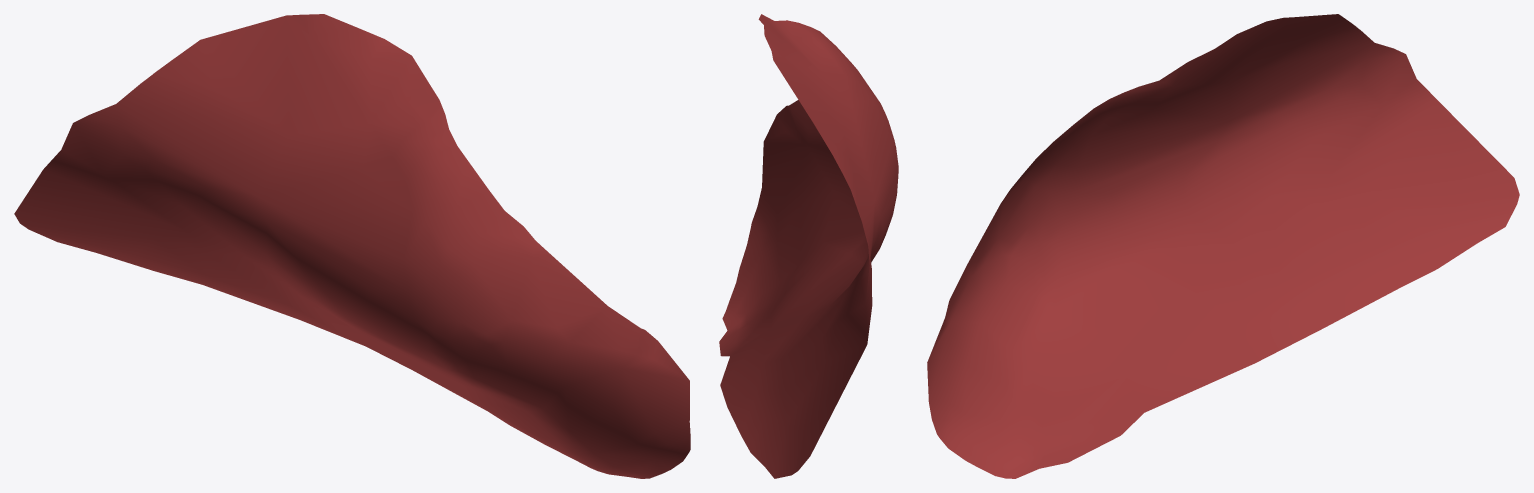
File: pectoralis-minor-muscle-ol.glb
3 views of the same model, side by side, from view 1: azimuth 30°, elevation 25°; view 2: azimuth 150°, elevation 25°; view 3: azimuth 270°, elevation 25° (orthographic). The views are drawn at different scales.
Visible parts, largest first — view 1: Pectoralis minor muscle.ol; view 2: Pectoralis minor muscle.ol; view 3: Pectoralis minor muscle.ol.
Part boxes in pixels (x1,y1,x2,y2): Pectoralis minor muscle.ol: [14, 14, 690, 478]; Pectoralis minor muscle.ol: [719, 14, 898, 478]; Pectoralis minor muscle.ol: [927, 14, 1519, 478].
Bounding box in the file's own units: 0.0104 × 0.0107 × 0.0152.
